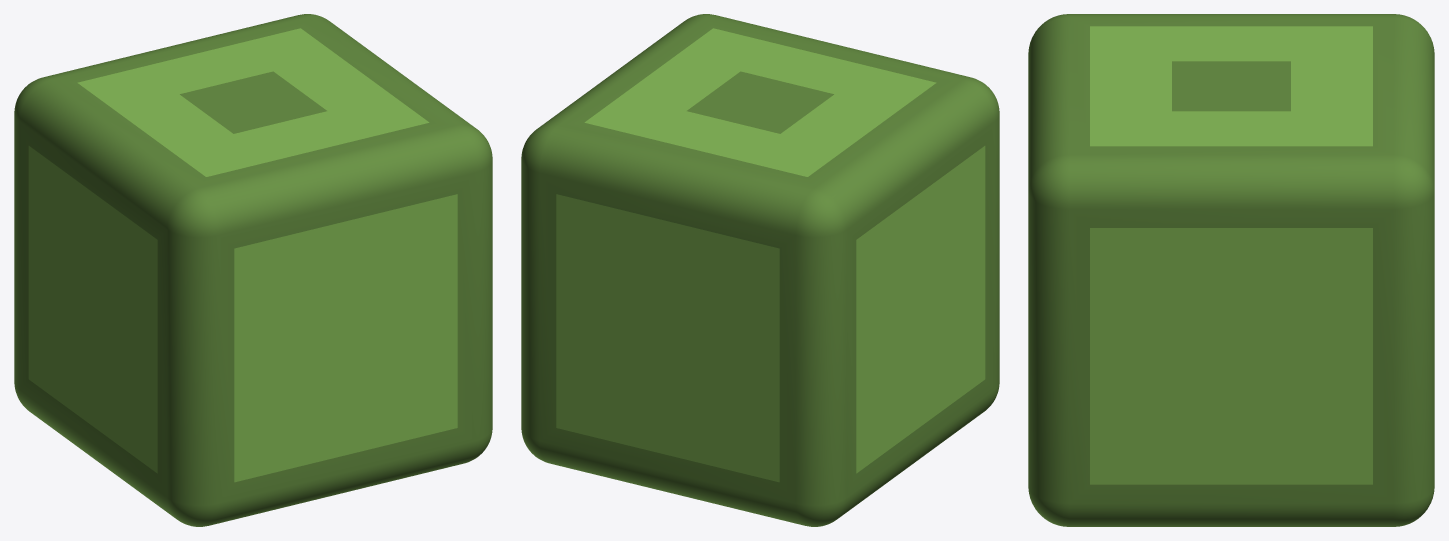
The model's file is grass_tile.glb.
3 views of the same model, side by side, from view 1: azimuth 30°, elevation 25°; view 2: azimuth 150°, elevation 25°; view 3: azimuth 270°, elevation 25° (orthographic). The views are drawn at different scales.
Parts seen in each view (by area): view 1: grass_tile; view 2: grass_tile; view 3: grass_tile.
Part boxes in pixels (x1,y1,x2,y2): grass_tile: [14, 14, 492, 526]; grass_tile: [521, 14, 999, 526]; grass_tile: [1028, 14, 1434, 526].
Size of the model in its own units: 0.99 by 0.99 by 0.99.
